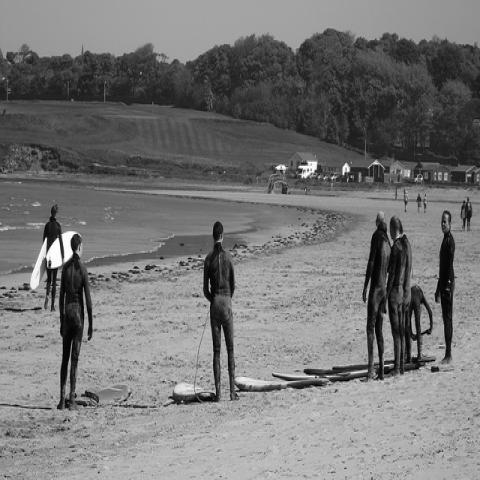car: (411, 174, 424, 184), (310, 171, 322, 180), (327, 173, 338, 181), (337, 176, 348, 182), (320, 174, 330, 180)
